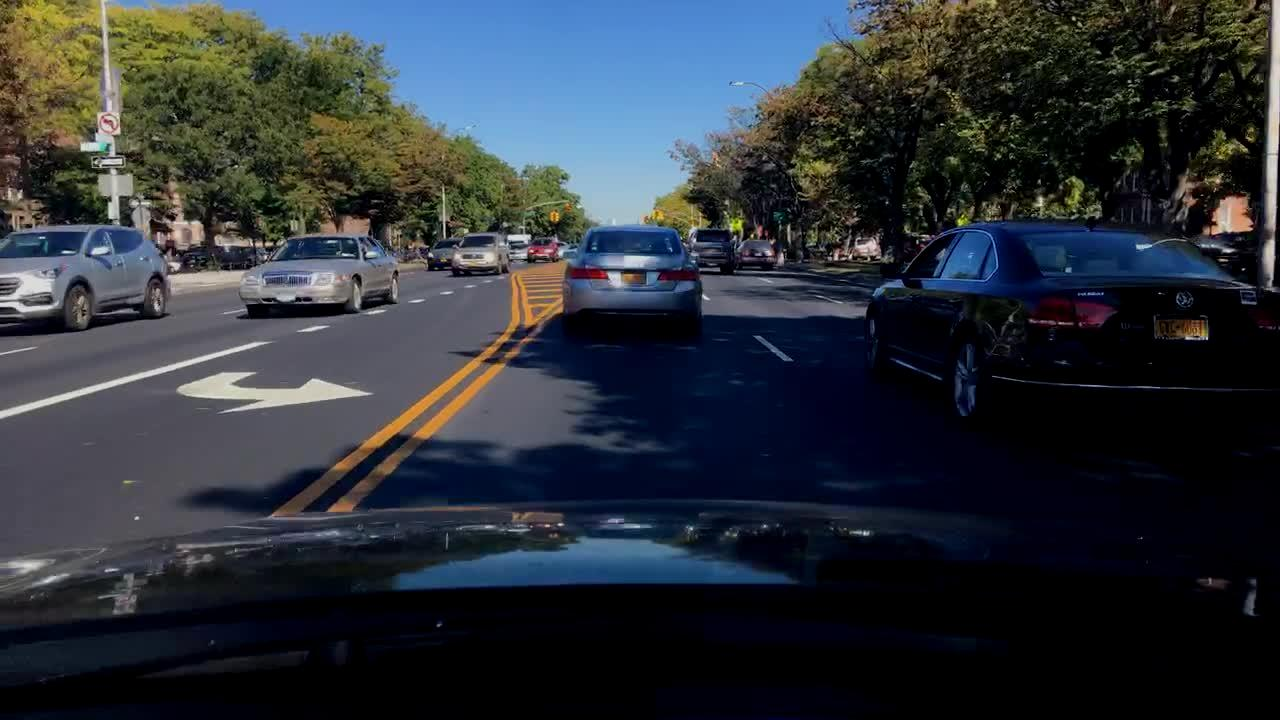Volkswagen: (1170, 289, 1199, 313)
